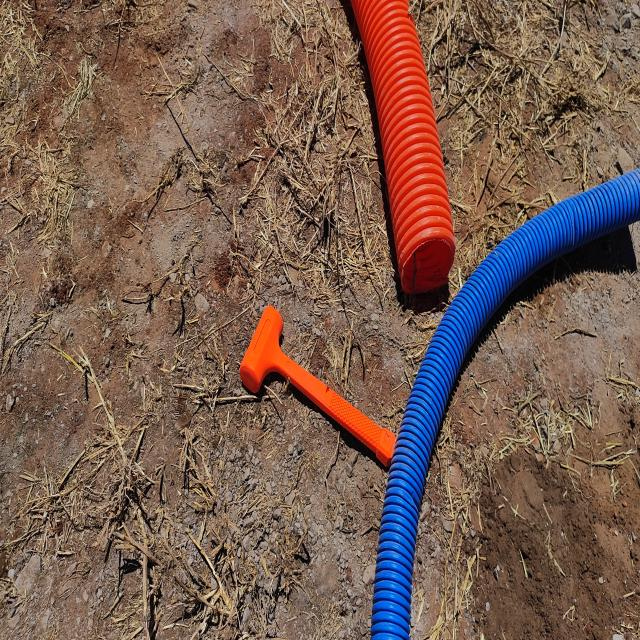Orange_hammer: (238, 304, 396, 471)
